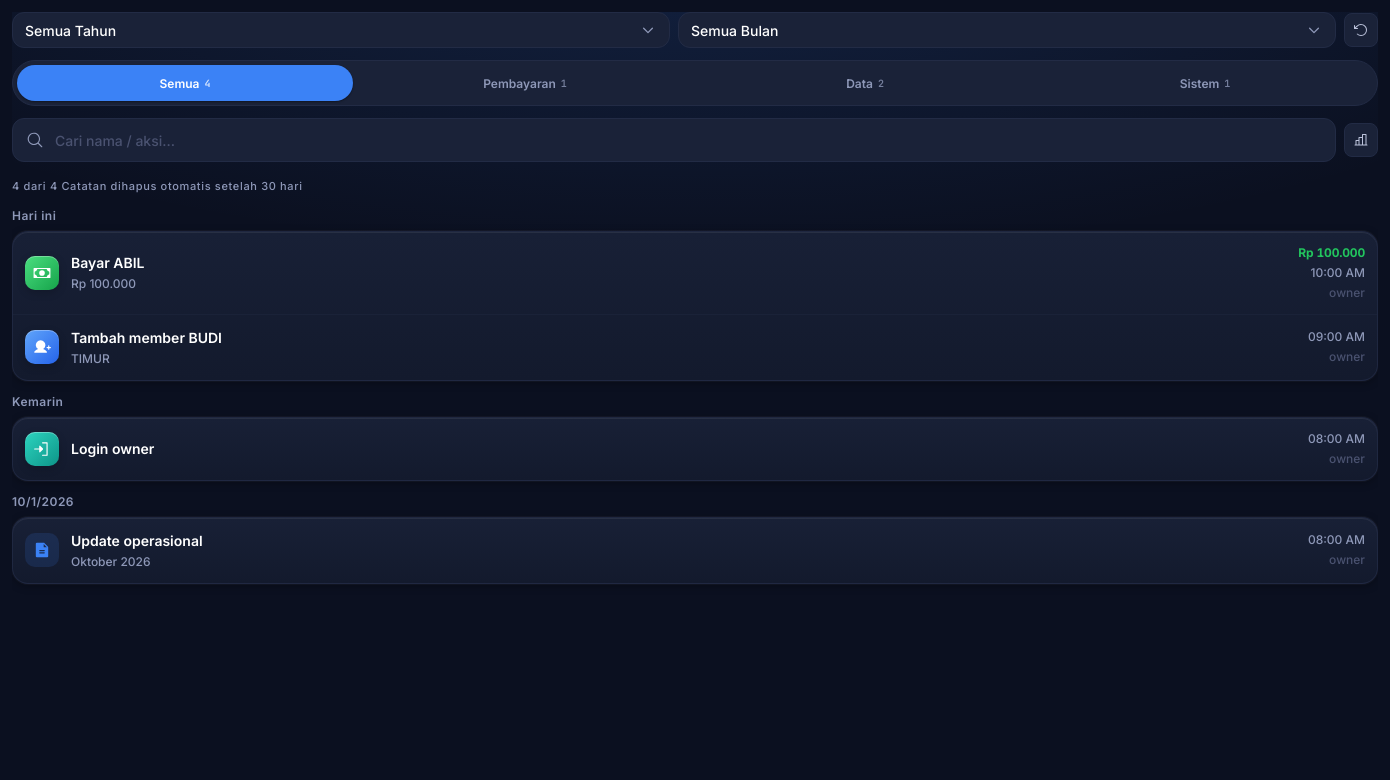
Test: Log — tampilan dan filter (zip + A27) › A27: tab Sistem hanya menampilkan Login; tab Data tidak memuat Login/Bayar
Click the button "Sistem 1" at (1205, 83), box [1037,65,1373,101]
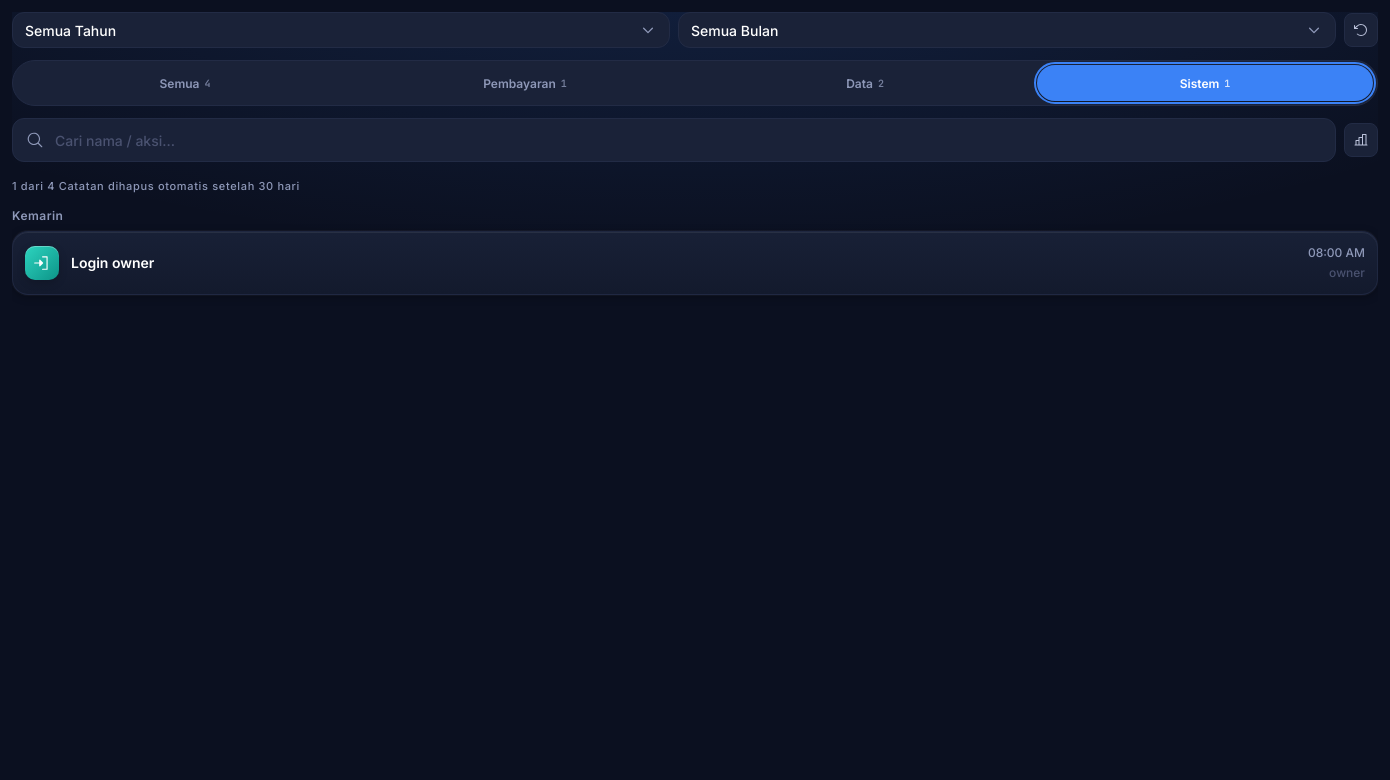
Check: the text "Login owner" is shown, box [71,254,154,271]
Check: the button "Bayar ABIL" is gone
Click the button "Data 2" at (865, 83), box [697,65,1033,101]
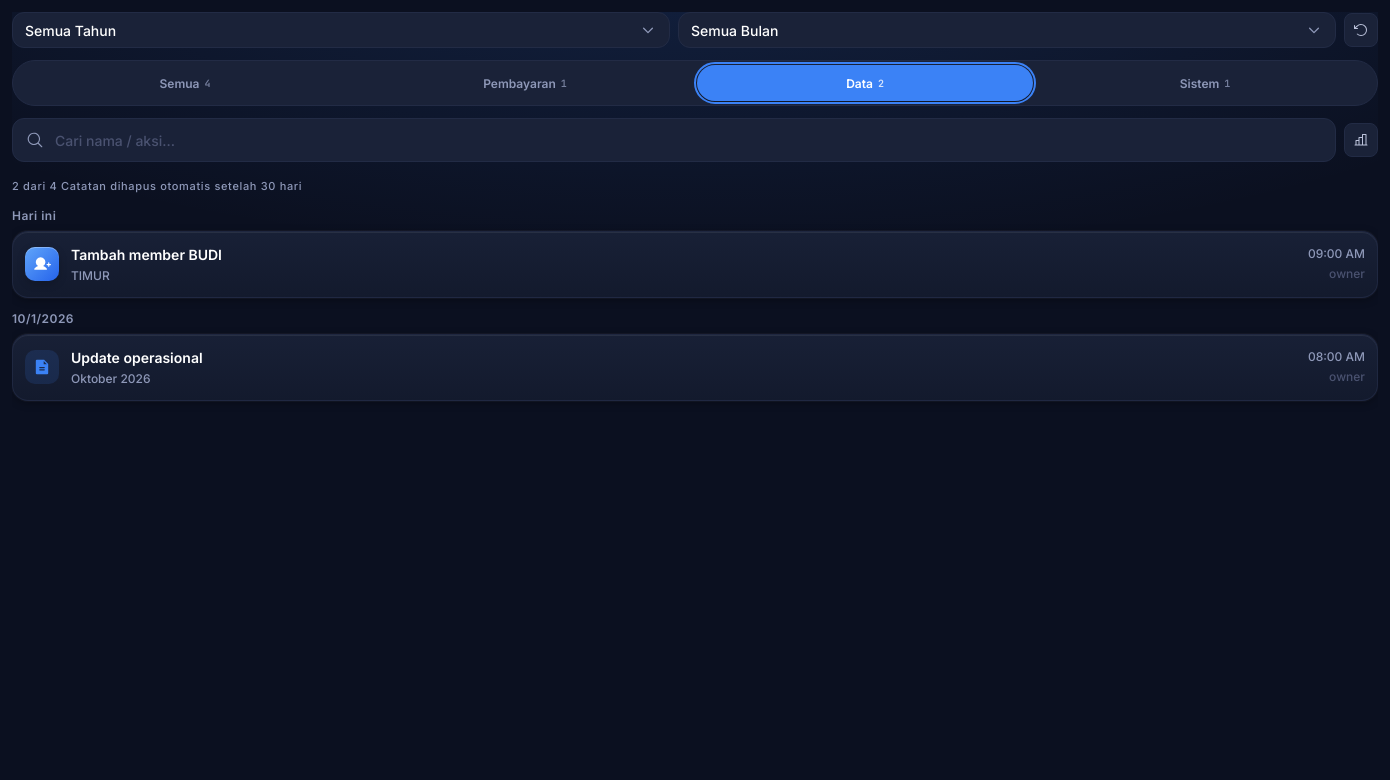
Check: the button "Login owner" is gone
Check: the text "Tambah member BUDI" is shown, box [71,246,222,262]
